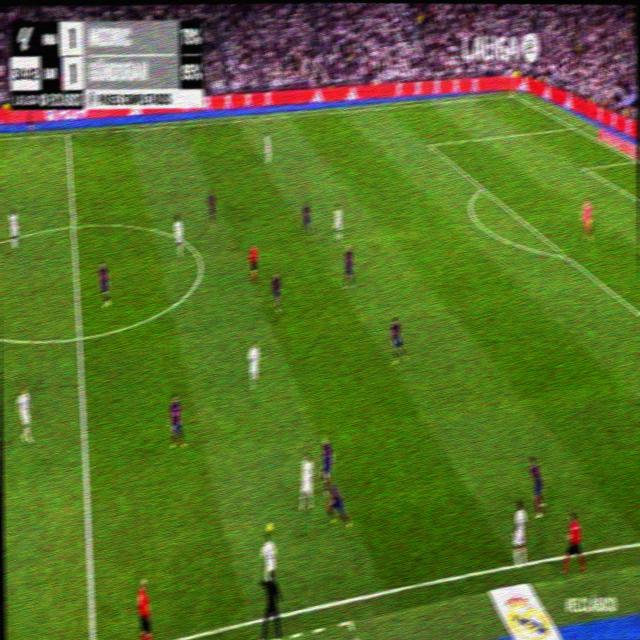bigarea_top_inner: (426, 136, 434, 151)
bottom_arc_area_intersection: (560, 244, 571, 264)
corner: (508, 88, 516, 98)
halfcircle_bottom: (72, 324, 86, 350)
halfcircle_top: (66, 213, 80, 238)
midline_top_intersection: (64, 128, 71, 141)
smallarea_top_inner: (581, 160, 589, 174)
top_arc_area_intersection: (478, 179, 486, 194)
